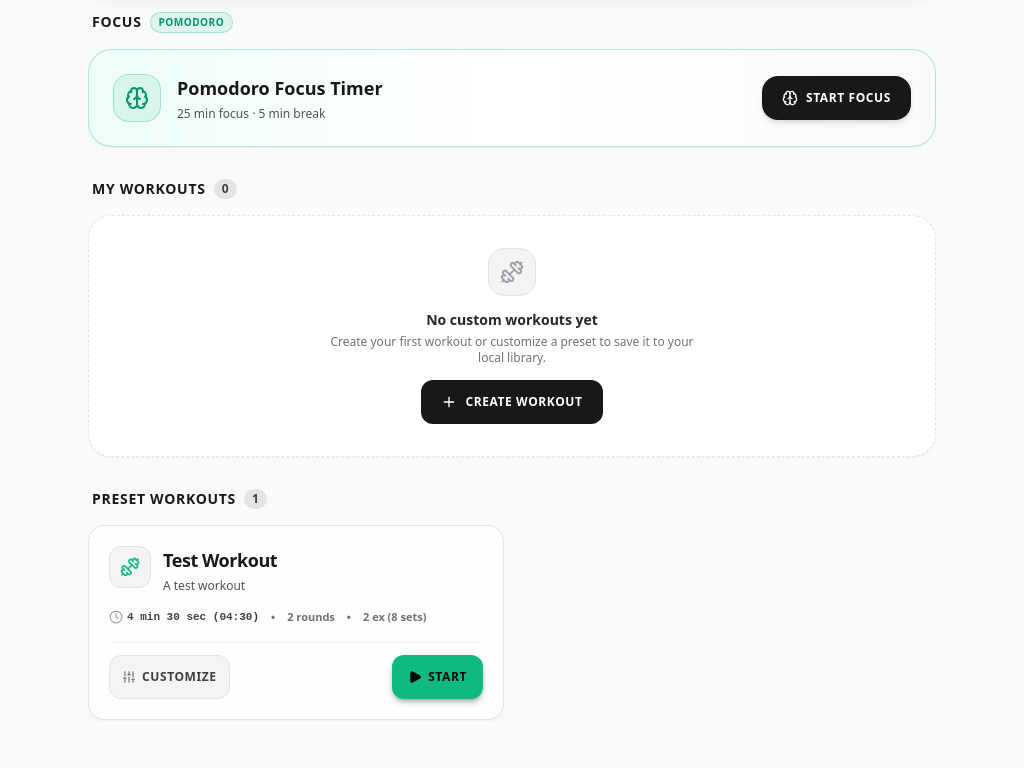
Module 4 — Workout Player Integration Tests › 6. Resume continues countdown
This screenshot has width=1024, height=768.
(page scrolled)
Step 1. Click the button with aria-label "start workout" → point(438, 676), box [392,654,483,698]
(page scrolled)
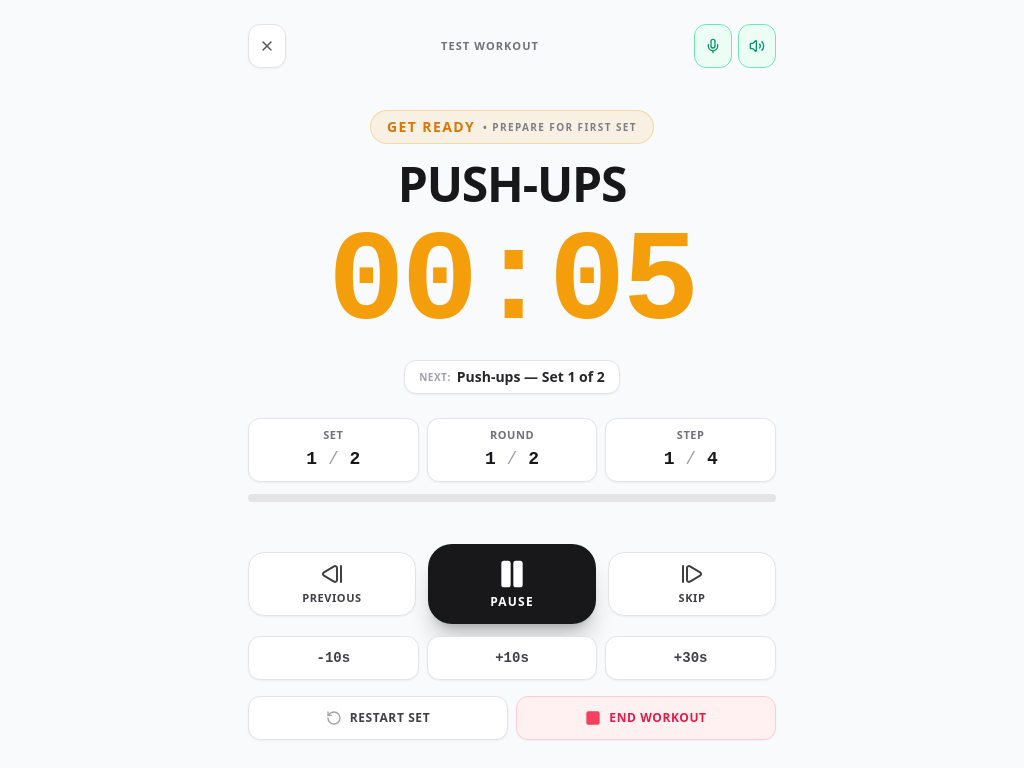
Step 2. Click the button with aria-label "pause workout" → point(512, 584), box [428,544,596,624]
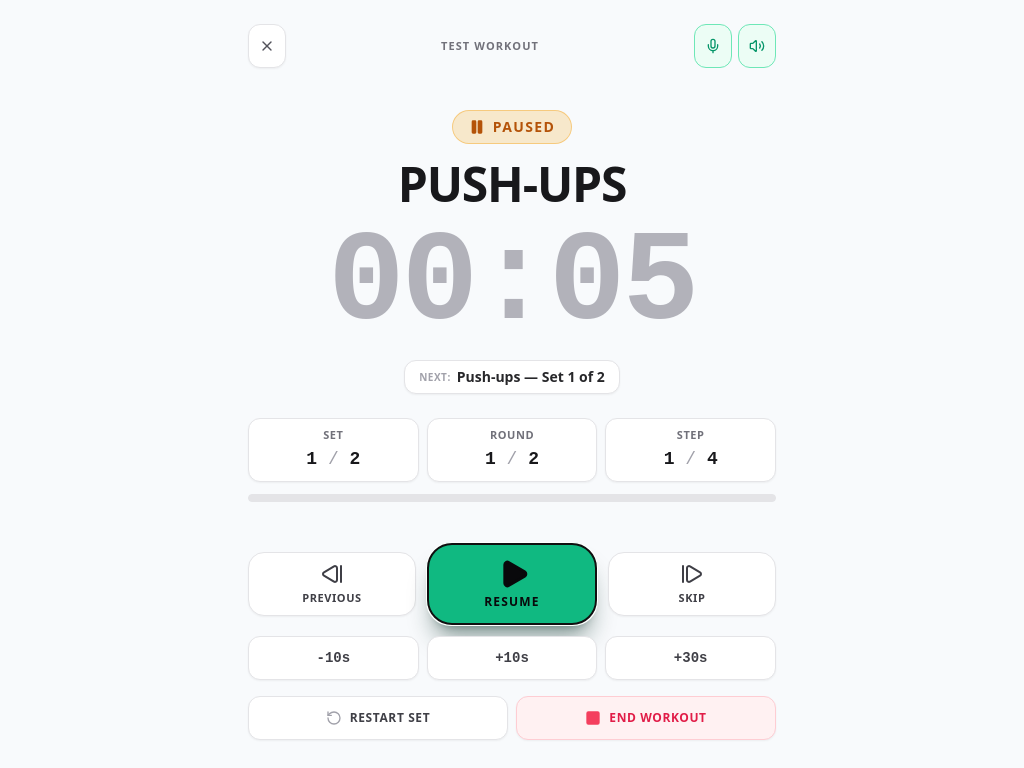
expect the text "PAUSED" is shown: met, box [452,110,572,144]
Step 3. Click the button with aria-label "resume workout" → point(512, 584), box [428,544,596,624]
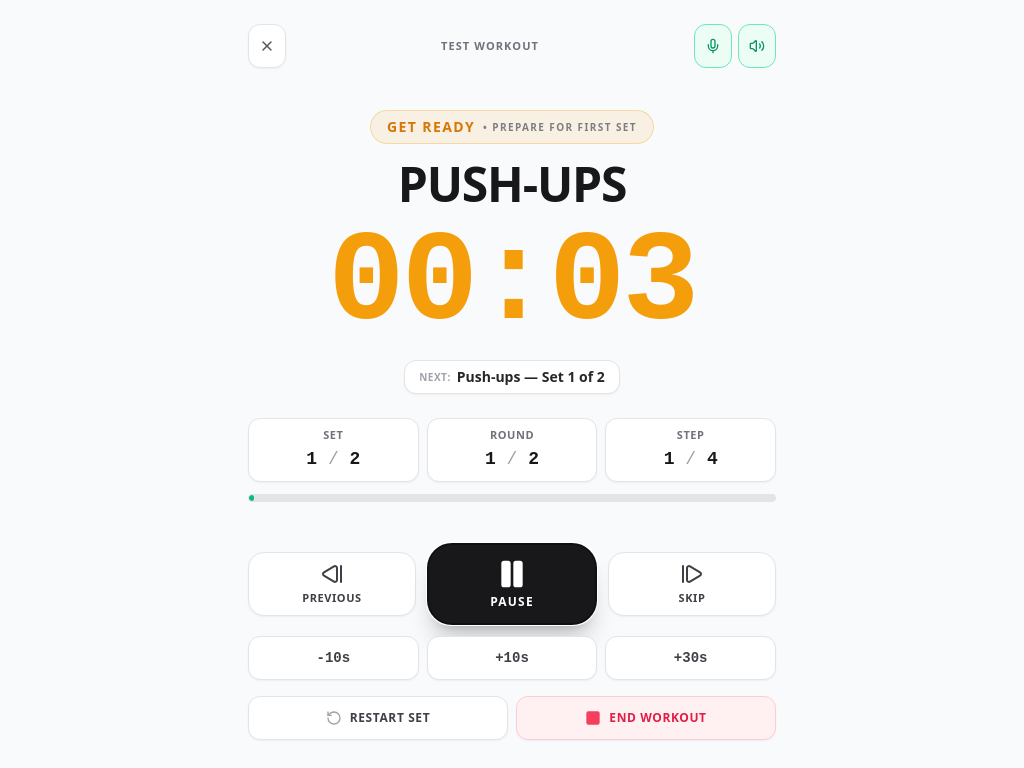
expect the text "PAUSED" is gone: met
expect the text "00:03" is shown: met, box [328,211,696,356]
